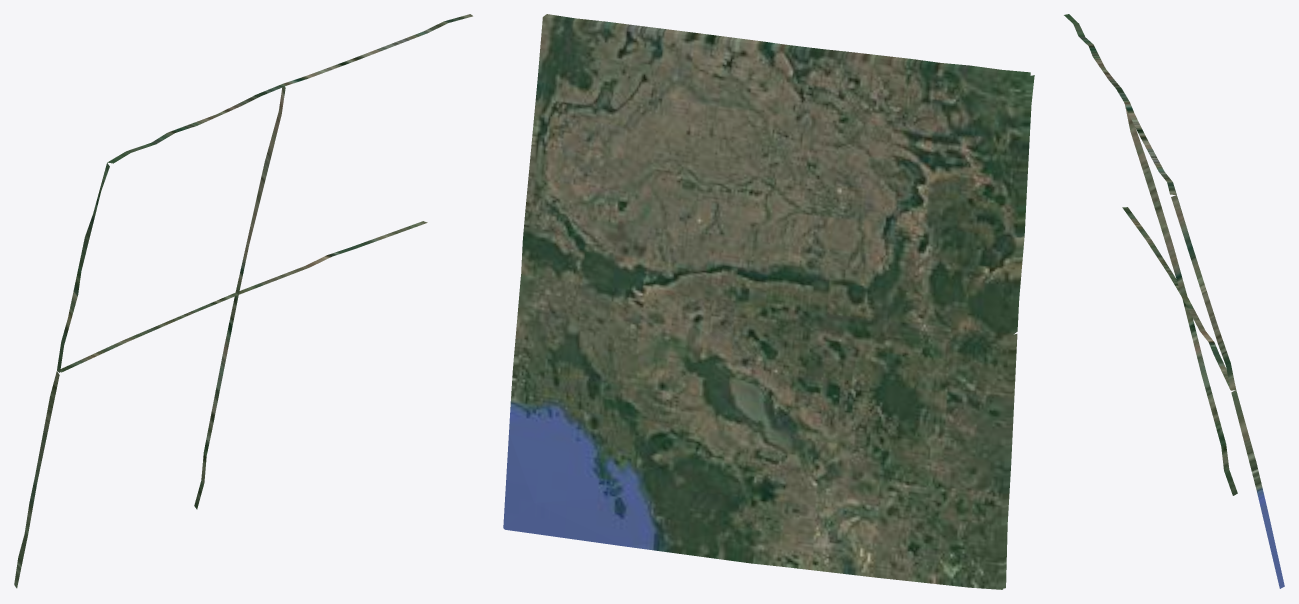
3 views of the same model, side by side, from view 1: azimuth 30°, elevation 25°; view 2: azimuth 150°, elevation 25°; view 3: azimuth 270°, elevation 25° (orthographic). The views are drawn at different scales.
Bounding box in the file's own units: 631746 × 612712 × 302512.
Materials: 1 (1 with a texture image).
